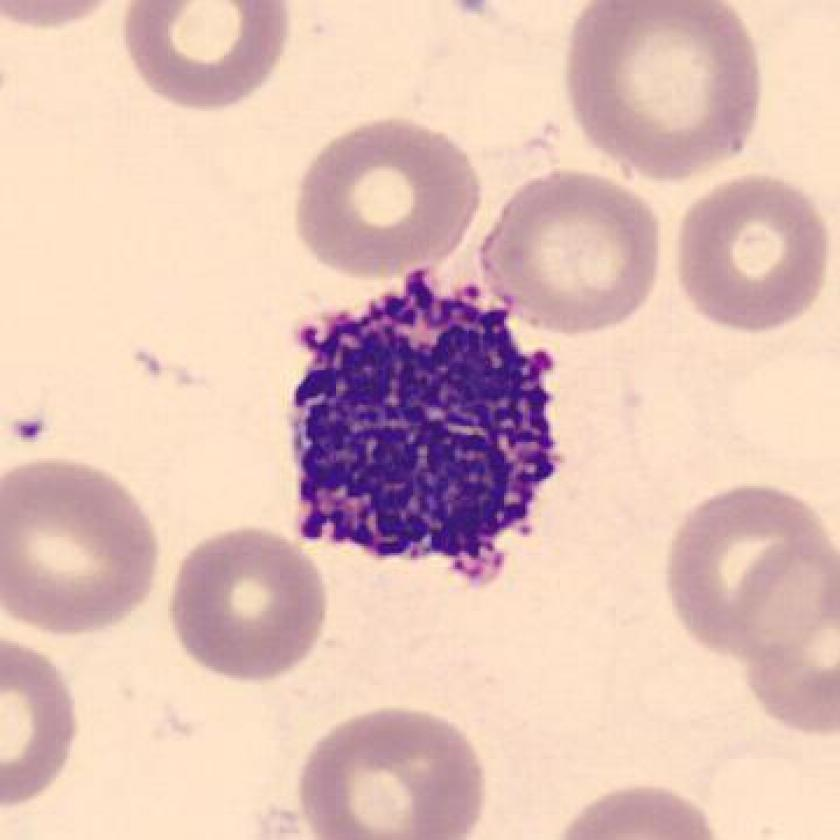basophil: (283, 276, 561, 575)
